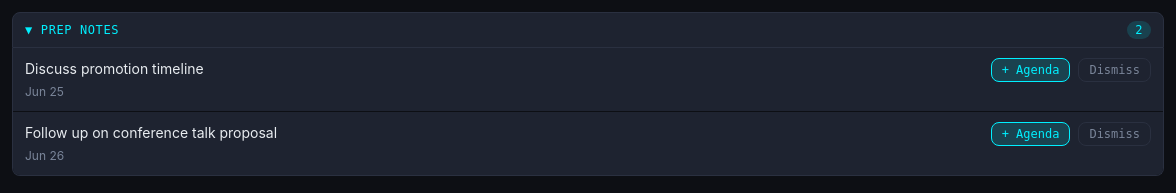
Test case: OneOnOnePrepNotes › should remove note from list after successful attach
The image size is (1176, 193).
Expected: the text "Discuss promotion timeline" is shown, [25,60,204,77]
What coordinates should you click on to do the following:
click the button with test id "prep-note-add-note-1"
I would click on:
 (1030, 70)
Its box is [991,58,1070,82].
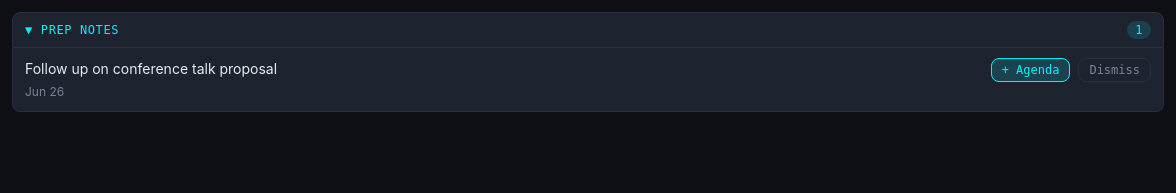
Expected: the text "Discuss promotion timeline" is gone
